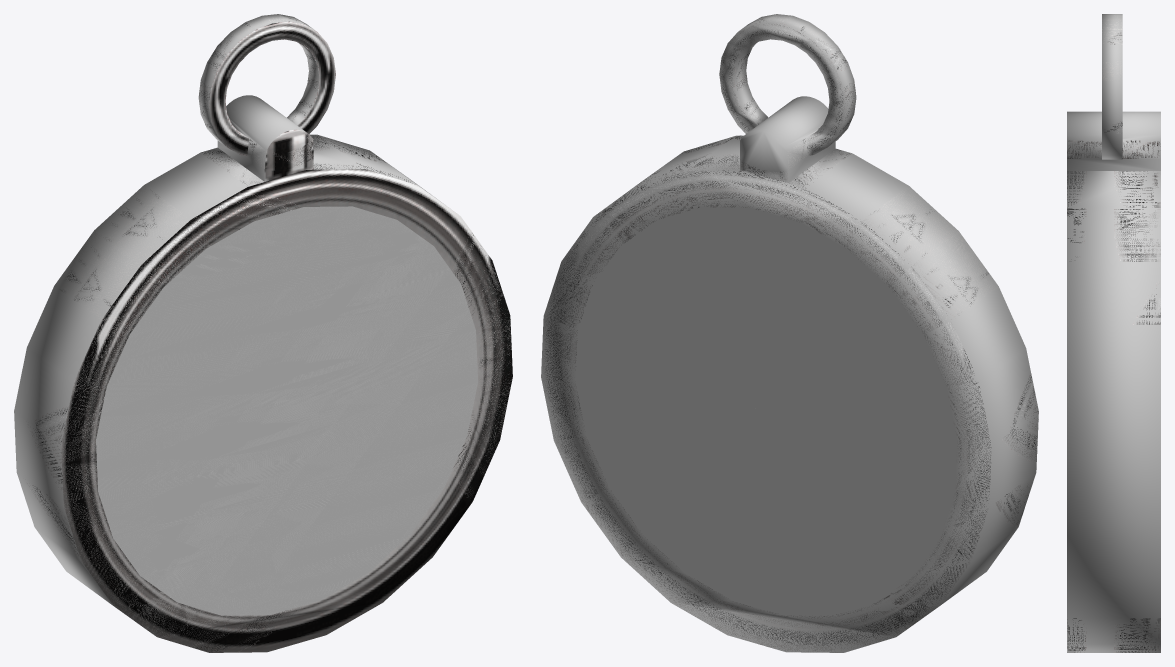
The model's file is Boussole_smoothed.dae.
3 views of the same model, side by side, from view 1: azimuth 30°, elevation 25°; view 2: azimuth 150°, elevation 25°; view 3: azimuth 270°, elevation 25° (orthographic).
Parts seen in each view (by area): view 1: Boussole (×5); view 2: Boussole (×4); view 3: Boussole (×2).
Boxes of the visible parts, x1,y1,x2,y2 form: Boussole (×5): (14, 14, 512, 652); Boussole (×4): (541, 14, 1038, 652); Boussole (×2): (1067, 14, 1160, 652).
Bounding box in the file's own units: 3.92 × 0.7087 × 5.07.
